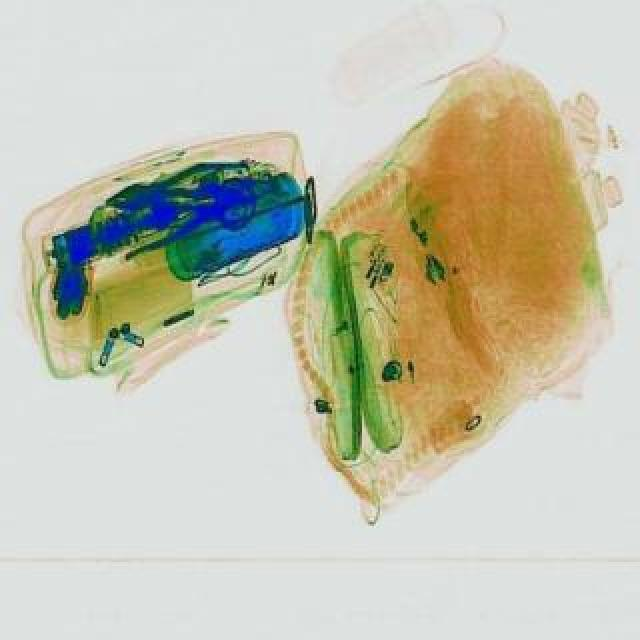wrench: (114, 180, 268, 264), (104, 158, 256, 222)
